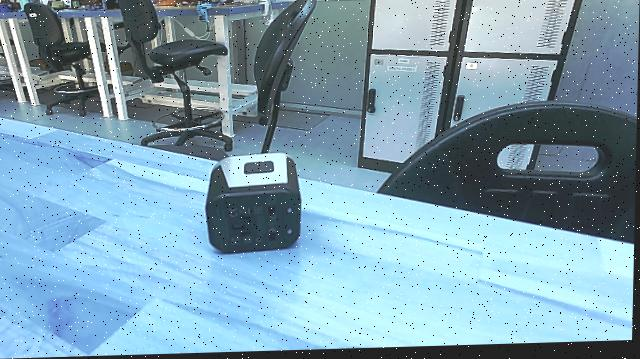adapter: (203, 151, 307, 259)
